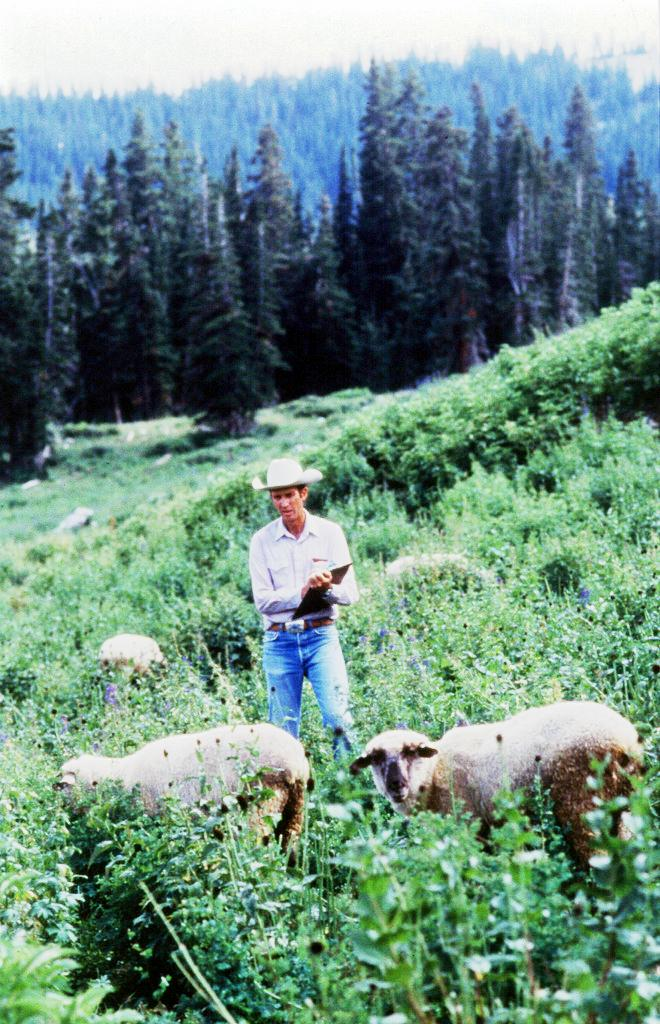Sheep: (346, 701, 635, 846), (56, 722, 306, 844)
